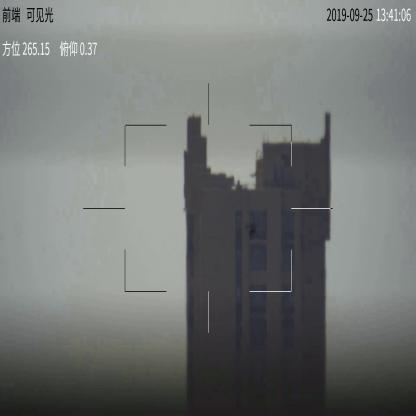uav: (241, 220, 261, 243)
